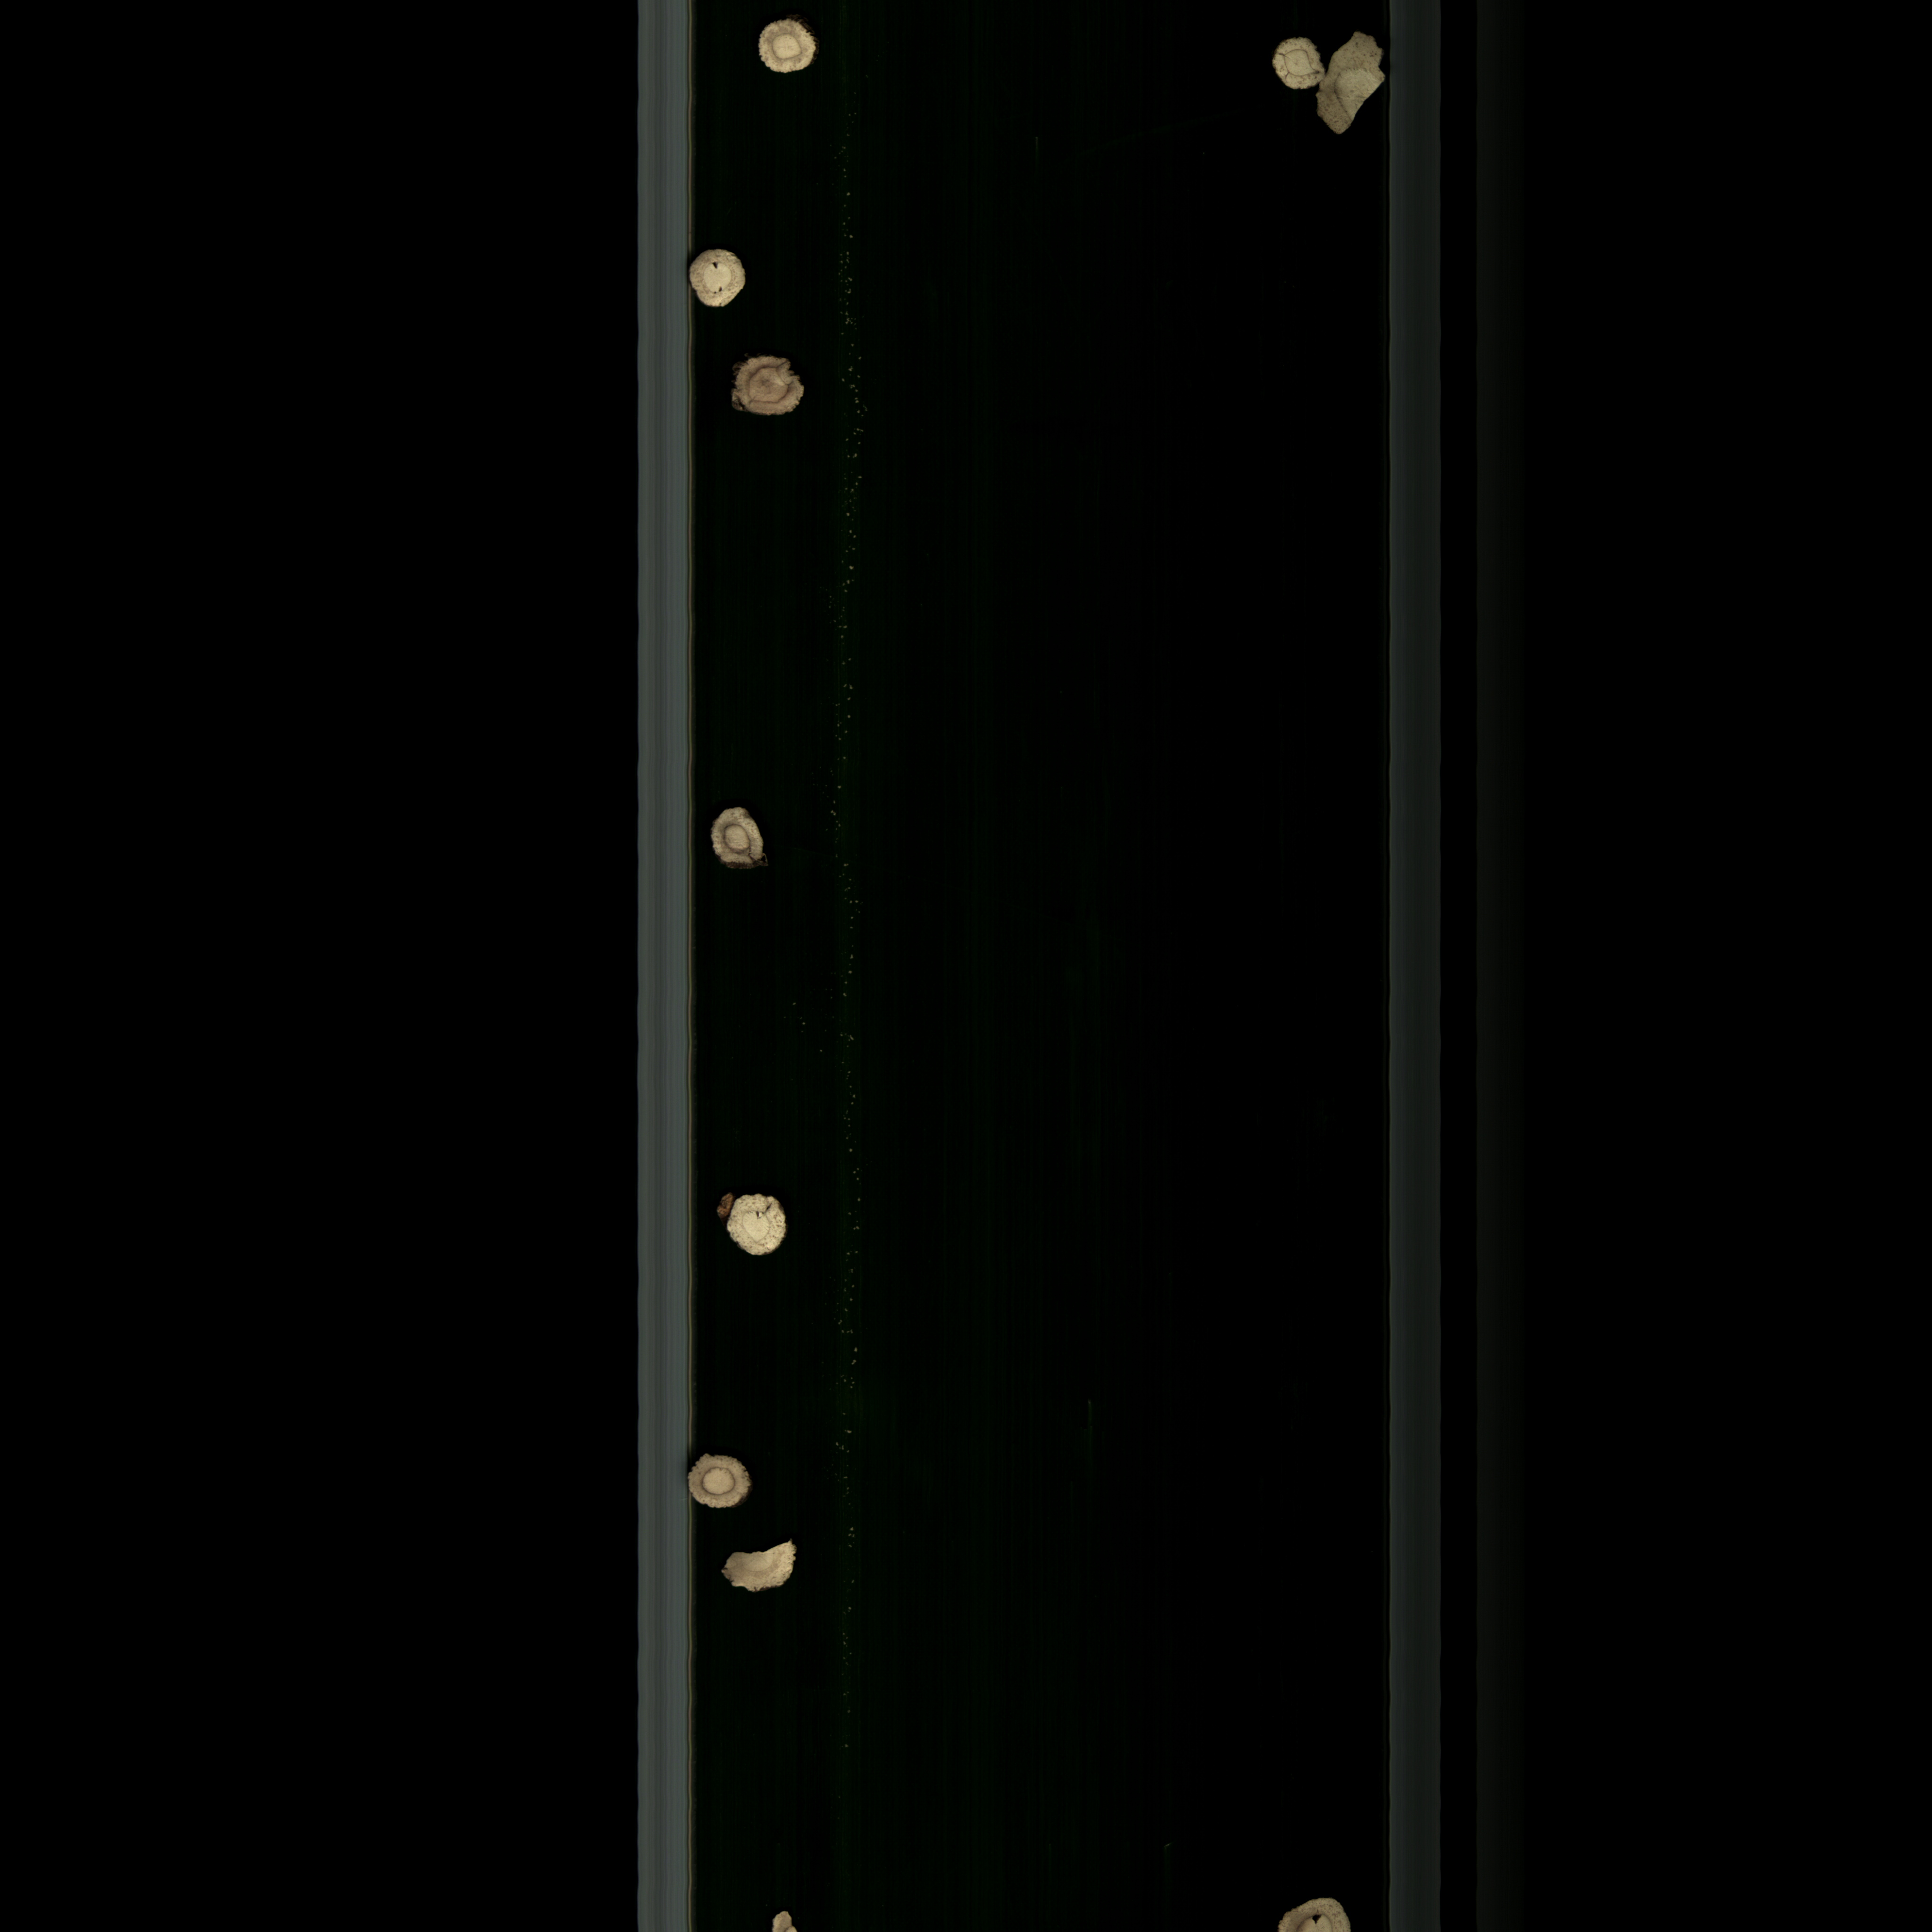debris: (711, 1534, 807, 1603)
hole: (704, 1184, 803, 1267), (685, 244, 755, 320), (1265, 1891, 1359, 1932)
moldy: (1311, 30, 1387, 149), (720, 349, 816, 430), (747, 14, 835, 80), (679, 1451, 768, 1514), (704, 801, 773, 872)
